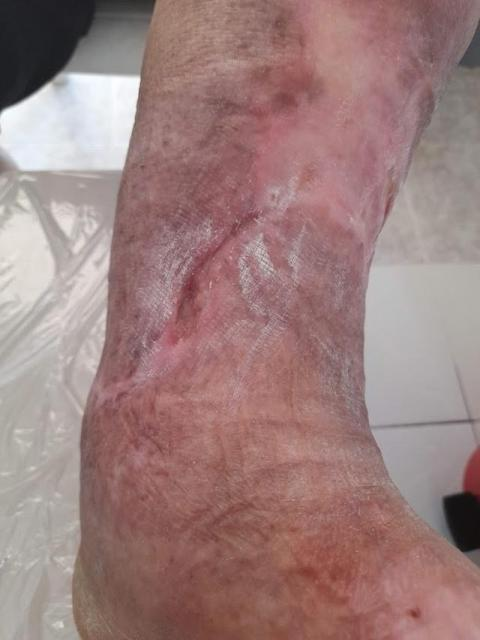wound: (169, 209, 261, 343)
